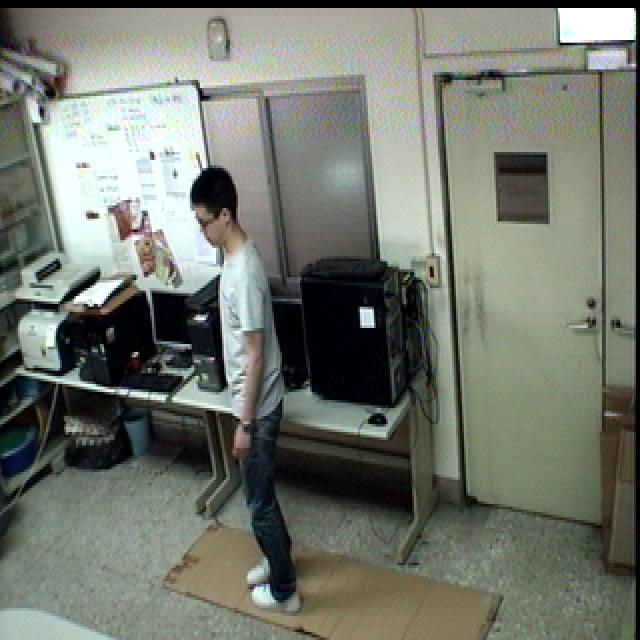stand: (185, 158, 312, 615)
